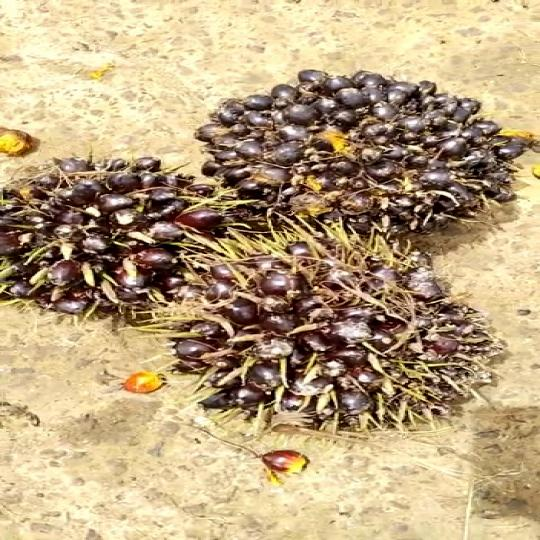mentah: (170, 228, 504, 432), (185, 63, 534, 239), (0, 141, 234, 323)
